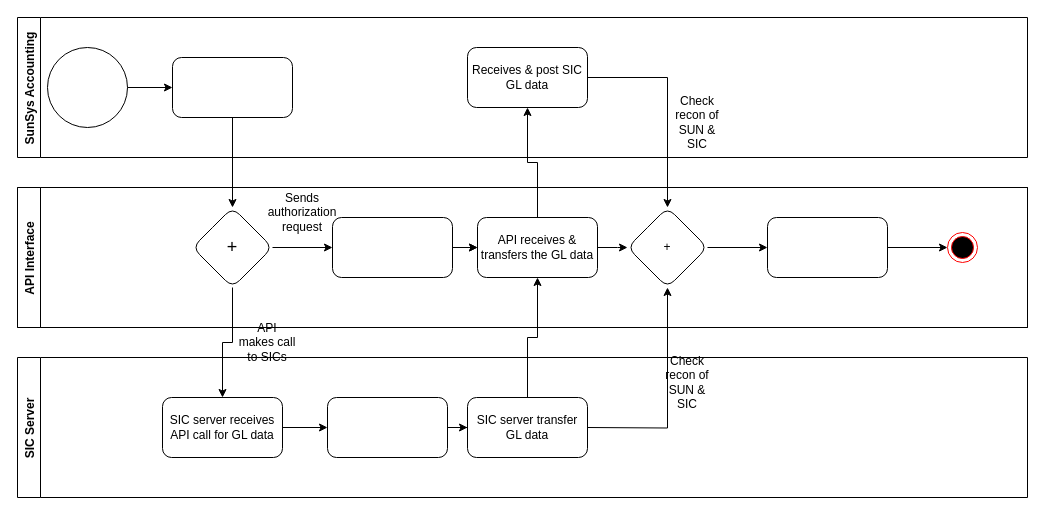
The diagram is 1045 pixels wide and 515 high, and some of its shapes have lost their labels. The box of each missing label's shape, as (x1, y1, x2, y2) in pixels:
Confirm reconciliation of SUN & SIC GL: (766, 216, 888, 278)
End of day trigger: (46, 46, 128, 128)
IT authorizes request: (332, 216, 452, 278)
SIC server processed GL data as specified: (326, 396, 448, 458)
SunSys initiates API call for premium data: (172, 56, 292, 118)
